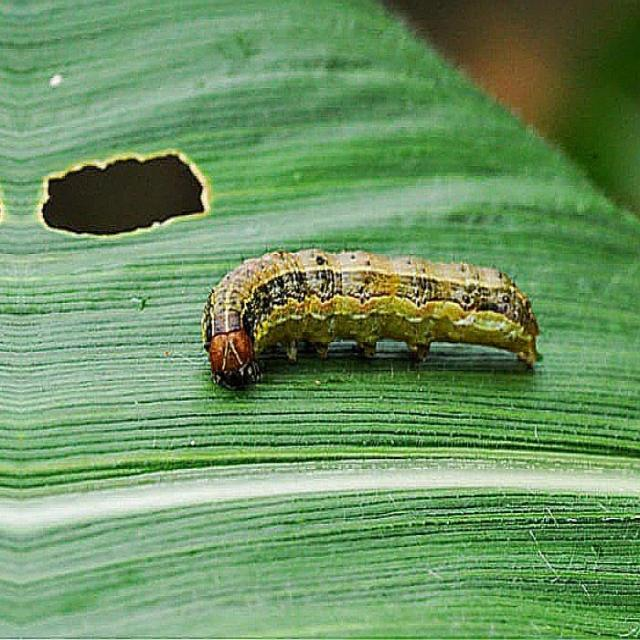Armyworm: (188, 227, 553, 440)
Armyworm_damage: (20, 129, 218, 244)
